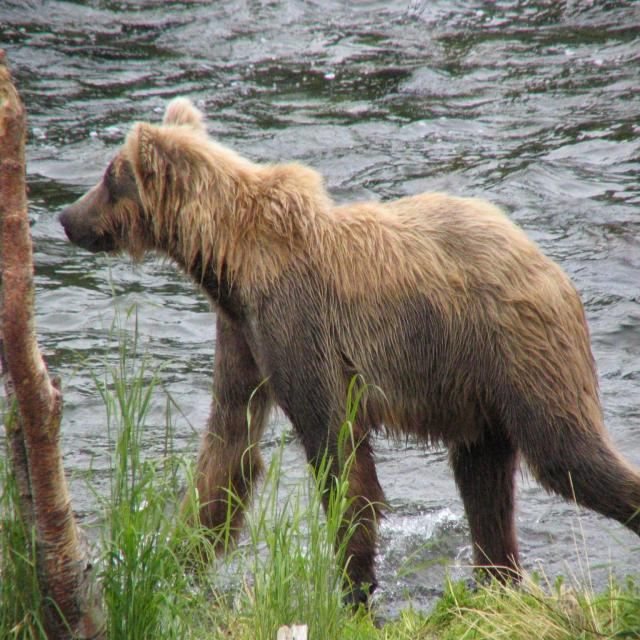bear face: (57, 94, 640, 604)
